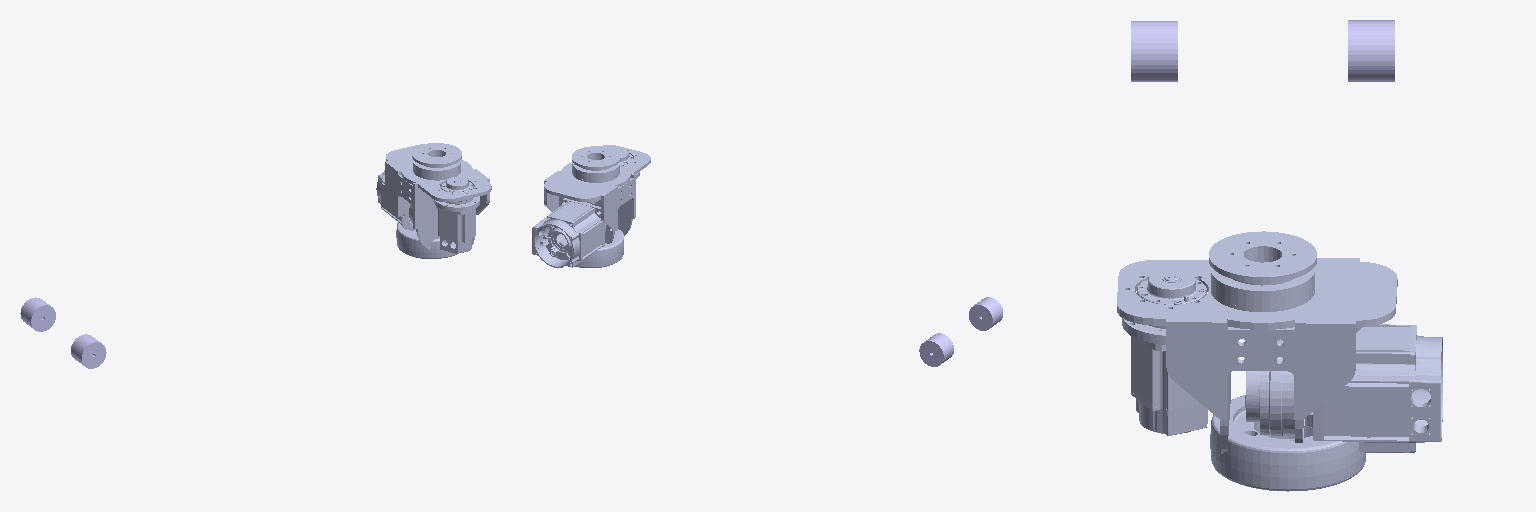
The robot description file, URDF, robot "gearfork_bot":
<?xml version="1.0" encoding="utf-8"?>
<!-- This URDF was automatically created by SolidWorks to URDF Exporter! Originally created by [author] ([email redacted]) 
     Commit Version: 1.6.0-4-g7f85cfe  Build Version: 1.6.7995.38578
     For more information, please see http://wiki.ros.org/sw_urdf_exporter -->
<robot
  name="gearfork_bot">
  <link
    name="base_footprint">
    <inertial>
      <origin
        xyz="-1.66533453693773E-16 -1.11022302462516E-16 0.0150000000000097"
        rpy="0 0 0" />
      <mass
        value="9.42477796076939E-05" />
      <inertia
        ixx="7.09214541547898E-09"
        ixy="1.07638717384255E-56"
        ixz="-2.73196242009685E-42"
        iyy="7.09214541547898E-09"
        iyz="2.54645439948029E-23"
        izz="4.71238898038469E-11" />
    </inertial>
    <visual>
      <origin
        xyz="0 0 0"
        rpy="0 0 0" />
      <geometry>
        <mesh
          filename="package://gearfork_bot/meshes/base_footprint.STL" />
      </geometry>
      <material
        name="">
        <color
          rgba="0.792156862745098 0.819607843137255 0.933333333333333 1" />
      </material>
    </visual>
    <collision>
      <origin
        xyz="0 0 0"
        rpy="0 0 0" />
      <geometry>
        <mesh
          filename="package://gearfork_bot/meshes/base_footprint.STL" />
      </geometry>
    </collision>
  </link>

<!-- BASE LINK -->

  <link
    name="base_link">
    <inertial>
      <origin
        xyz="0.332083153374593 -0.00331447649651206 0.192922352383313"
        rpy="0 0 0" />
      <mass
        value="6.82953904074599" />
      <inertia
        ixx="0.240406964793965"
        ixy="0.012996572440763"
        ixz="-0.196549425056795"
        iyy="0.857443539684563"
        iyz="-0.000466640574438609"
        izz="0.919203079251692" />
    </inertial>
    <visual>
      <origin
        xyz="0 0 0"
        rpy="0 0 0" />
      <geometry>
        <mesh
          filename="package://gearfork_bot/meshes/base_link.STL" />
      </geometry>
      <material
        name="">
        <color
          rgba="0.792156862745098 0.819607843137255 0.933333333333333 1" />
      </material>
    </visual>
    <collision>
      <origin
        xyz="0 0 0"
        rpy="0 0 0" />
      <geometry>
        <mesh
          filename="package://gearfork_bot/meshes/base_link.STL" />
      </geometry>
    </collision>
  </link>

  <joint
    name="base_joint"
    type="fixed">
    <origin
      xyz="0 0 0.035"
      rpy="0 0 0" />
    <parent
      link="base_footprint" />
    <child
      link="base_link" />
    <axis
      xyz="0 0 0" />
  </joint>

<!-- STEERING LINK -->

  <link
    name="motor_link">
    <inertial>
      <origin
        xyz="0.0305449765313153 -0.0516187176938839 -0.152664460739497"
        rpy="0 0 0" />
      <mass
        value="3.62949819437905" />
      <inertia
        ixx="0.020873193105549"
        ixy="0.00122762908427952"
        ixz="8.16486496202453E-06"
        iyy="0.0180104324187444"
        iyz="-0.00335879654898832"
        izz="0.0249870479241688" />
    </inertial>
    <visual>
      <origin
        xyz="0 0 0"
        rpy="0 0 0" />
      <geometry>
        <mesh
          filename="package://gearfork_bot/meshes/motor_link.STL" />
      </geometry>
      <material
        name="">
        <color
          rgba="0.792156862745098 0.819607843137255 0.933333333333333 1" />
      </material>
    </visual>
    <collision>
      <origin
        xyz="0 0 0"
        rpy="0 0 0" />
      <geometry>
        <mesh
          filename="package://gearfork_bot/meshes/motor_link.STL" />
      </geometry>
    </collision>
  </link>

  <joint
    name="motor_joint"
    type="revolute">
    <origin
      xyz="0.6 0 0.287"
      rpy="0 0 0" />
    <parent
      link="base_link" />
    <child
      link="motor_link" />
    <axis
      xyz="0 0 1" />
    <limit lower="-0.88" upper="0.88" effort="5" velocity="10.0"/>
  </joint>

<transmission name="trans1">
  <type>transmission_interface/SimpleTransmission</type>

  <joint name="motor_joint">
    <hardwareInterface>hardware_interface/PositionJointInterface</hardwareInterface>
  </joint>

  <actuator name="motor1">
    <mechanicalReduction>1.0</mechanicalReduction>
    <hardwareInterface>hardware_interface/EffortJointInterface</hardwareInterface>
  </actuator>

</transmission>

<gazebo>

  <plugin name="gazebo_ros_control" filename="libgazebo_ros_control.so">
    <robotNamespace>/gearfork_bot</robotNamespace>
  </plugin>
  
</gazebo>

      <!-- WHEEL LINK -->

  <link
    name="wheel_link">
    <inertial>
      <origin
        xyz="0.00017196626651117 -0.0274503580225008 2.22044604925031E-16"
        rpy="0 0 0" />
      <mass
        value="0.919701249338412" />
      <inertia
        ixx="0.00158997015044299"
        ixy="-5.62418653778609E-06"
        ixz="-6.63957229367091E-20"
        iyy="0.00248770363165098"
        iyz="1.16271390580822E-19"
        izz="0.00158993491700959" />
    </inertial>
    <visual>
      <origin
        xyz="0 0 0"
        rpy="0 0 0" />
      <geometry>
        <mesh
          filename="package://gearfork_bot/meshes/wheel_link.STL" />
      </geometry>
      <material
        name="">
        <color
          rgba="0.792156862745098 0.819607843137255 0.933333333333333 1" />
      </material>
    </visual>
    <collision>
      <origin
        xyz="0 0 0"
        rpy="0 0 0" />
      <geometry>
        <mesh
          filename="package://gearfork_bot/meshes/wheel_link.STL" />
      </geometry>
    </collision>
  </link>

  <joint
    name="wheel_joint"
    type="continuous">
    <origin
      xyz="0.004014 0.033026 -0.247"
      rpy="0 0 0" />
    <parent
      link="motor_link" />
    <child
      link="wheel_link" />
    <axis
      xyz="0.0062645 0.99998 0" />
  </joint>

      <!-- STEERING JOINT -->

  <link
    name="steering_link">
    <inertial>
      <origin
        xyz="2.22044604925031E-16 1.11022302462516E-16 0.0708534190503747"
        rpy="0 0 0" />
      <mass
        value="0.100938321168348" />
      <inertia
        ixx="0.000449053155189826"
        ixy="-1.89271586316295E-20"
        ixz="6.21936423063308E-20"
        iyy="0.000449053155189826"
        iyz="-1.60007749740726E-19"
        izz="1.73496012240567E-05" />
    </inertial>
    <visual>
      <origin
        xyz="0 0 0"
        rpy="0 0 0" />
      <geometry>
        <mesh
          filename="package://gearfork_bot/meshes/steering_link.STL" />
      </geometry>
      <material
        name="">
        <color
          rgba="0.792156862745098 0.819607843137255 0.933333333333333 1" />
      </material>
    </visual>
    <collision>
      <origin
        xyz="0 0 0"
        rpy="0 0 0" />
      <geometry>
        <mesh
          filename="package://gearfork_bot/meshes/steering_link.STL" />
      </geometry>
    </collision>
  </link>

  <joint
    name="steering_joint"
    type="continuous">
    <origin
      xyz="0.74937 0 0.232"
      rpy="0 0 0" />
    <parent
      link="base_link" />
    <child
      link="steering_link" />
    <axis
      xyz="0 0 1" />
  </joint>

      <!-- LASER LINK -->

  <link
    name="laser_link">
    <inertial>
      <origin
        xyz="4.44089209850063E-16 0 -0.0395000000000001"
        rpy="0 0 0" />
      <mass
        value="0.39709731141375" />
      <inertia
        ixx="0.000365362617943268"
        ixy="4.15988159834906E-51"
        ixz="-1.21245706409418E-36"
        iyy="0.000365362617943268"
        iyz="6.46109837352292E-20"
        izz="0.000317677849131001" />
    </inertial>
    <visual>
      <origin
        xyz="0 0 0"
        rpy="0 0 0" />
      <geometry>
        <mesh
          filename="package://gearfork_bot/meshes/laser_link.STL" />
      </geometry>
      <material
        name="">
        <color
          rgba="0.792156862745098 0.819607843137255 0.933333333333333 1" />
      </material>
    </visual>
    <collision>
      <origin
        xyz="0 0 0"
        rpy="0 0 0" />
      <geometry>
        <mesh
          filename="package://gearfork_bot/meshes/laser_link.STL" />
      </geometry>
    </collision>
  </link>

  <joint
    name="laser_joint"
    type="fixed">
    <origin
      xyz="0.93 -0.22 0.146"
      rpy="0 0 0" />
    <parent
      link="base_link" />
    <child
      link="laser_link" />
    <axis
      xyz="0 0 1" />
  </joint>

  <!-- <gazebo reference="laser_link">
    <material>Gazebo/FlatBlack</material>
    <sensor type="ray" name="lds_lfcd_sensor">
      <pose>0 0 0 0 0 0</pose>
      <visualize>true</visualize>
      <update_rate>5</update_rate>
      <ray>
        <scan>

          <horizontal>
            <samples>760</samples>
            <resolution>1</resolution>
            <min_angle>-2.2</min_angle>
            <max_angle>1.57</max_angle>
          </horizontal>

        </scan>
        <range>
          <min>0.120</min>
          <max>3.5</max>
          <resolution>0.015</resolution>
        </range>
        <noise>
          <type>gaussian</type>
          <mean>0.0</mean>
          <stddev>0.01</stddev>
        </noise>
      </ray>
      <plugin name="gazebo_ros_lds_lfcd_controller" filename="libgazebo_ros_laser.so">
        <topicName>/scan</topicName>
        <frameName>laser_link</frameName>
      </plugin>
    </sensor>
  </gazebo> -->

<!-- LEFT ROLLER LINK -->

  <link
    name="lroller_link">
    <inertial>
      <origin
        xyz="0 0.0450000000000002 0"
        rpy="0 0 0" />
      <mass
        value="0.312850268419984" />
      <inertia
        ixx="0.000307324665091248"
        ixy="8.7847735409044E-20"
        ixz="-2.35739885551304E-20"
        iyy="0.000204892709371718"
        iyz="2.69663364159728E-19"
        izz="0.000307324665091248" />
    </inertial>
    <visual>
      <origin
        xyz="0 0 0"
        rpy="0 0 0" />
      <geometry>
        <mesh
          filename="package://gearfork_bot/meshes/lroller_link.STL" />
      </geometry>
      <material
        name="">
        <color
          rgba="0.823529411764706 0.823529411764706 1 1" />
      </material>
    </visual>
    <collision>
      <origin
        xyz="0 0 0"
        rpy="0 0 0" />
      <geometry>
        <mesh
          filename="package://gearfork_bot/meshes/lroller_link.STL" />
      </geometry>
    </collision>
  </link>

  <joint
    name="lroller_joint"
    type="continuous">
    <origin
      xyz="-0.6 0.17 0.01"
      rpy="0 0 0" />
    <parent
      link="base_link" />
    <child
      link="lroller_link" />
    <axis
      xyz="0 1 0" />
    <dynamics
      friction="0.1" />
  </joint>

<!-- RIGHT ROLLER LINK -->

  <link
    name="rroller_link">
    <inertial>
      <origin
        xyz="1.66533453693773E-16 -0.0449999999999999 2.22044604925031E-16"
        rpy="0 0 0" />
      <mass
        value="0.312850268419983" />
      <inertia
        ixx="0.000307324665091247"
        ixy="3.35271630897544E-19"
        ixz="-8.68653616963297E-21"
        iyy="0.000204892709371718"
        iyz="4.43633506124443E-20"
        izz="0.000307324665091247" />
    </inertial>
    <visual>
      <origin
        xyz="0 0 0"
        rpy="0 0 0" />
      <geometry>
        <mesh
          filename="package://gearfork_bot/meshes/rroller_link.STL" />
      </geometry>
      <material
        name="">
        <color
          rgba="0.823529411764706 0.823529411764706 1 1" />
      </material>
    </visual>
    <collision>
      <origin
        xyz="0 0 0"
        rpy="0 0 0" />
      <geometry>
        <mesh
          filename="package://gearfork_bot/meshes/rroller_link.STL" />
      </geometry>
    </collision>
  </link>

  <joint
    name="rroller_joint"
    type="continuous">
    <origin
      xyz="-0.6 -0.17 0.01"
      rpy="0 0 0" />
    <parent
      link="base_link" />
    <child
      link="rroller_link" />
    <axis
      xyz="0 1 0" />
    <dynamics
      friction="0.1" />
  </joint>

<gazebo>
  <plugin name="differential_drive_controller" filename="libgazebo_ros_diff_drive.so">

    <updateRate>10</updateRate>

    <leftJoint>wheel_joint</leftJoint>

    <rightJoint>wheel_joint</rightJoint>

    <wheelSeparation>0.5380</wheelSeparation>

    <wheelDiameter>0.2410</wheelDiameter>

    <wheelAcceleration>1.0</wheelAcceleration>

    <wheelTorque>10</wheelTorque>

    <commandTopic>/gearfork_bot/cmd_vel</commandTopic>

    <odometryTopic>odom</odometryTopic>

    <odometryFrame>odom</odometryFrame>

    <robotBaseFrame>base_link</robotBaseFrame>

    <odometrySource>1</odometrySource>

    <publishWheelTF>false</publishWheelTF>

    <publishOdom>true</publishOdom>

    <publishWheelJointState>false</publishWheelJointState>

    <legacyMode>false</legacyMode>
  </plugin>
</gazebo>


</robot>

--- What the picture shows (computed from the rendered views, not written in the file) ---
Views: 3 orthographic renders of the robot side by side, from view 1: azimuth 30°, elevation 25°; view 2: azimuth 150°, elevation 25°; view 3: azimuth 270°, elevation 25°.
Robot: gearfork_bot — 8 links, 7 joints (1 revolute, 4 continuous, 2 fixed); root link base_footprint; default pose: all joints at 0.
Links seen in each view (by area): view 1: motor_link, wheel_link, rroller_link, lroller_link; view 2: motor_link, wheel_link, lroller_link, rroller_link; view 3: motor_link, wheel_link, lroller_link, rroller_link.
Boxes of the visible links, <box> form: motor_link: <box>376,143,491,253</box>; wheel_link: <box>396,218,456,258</box>; rroller_link: <box>71,334,106,368</box>; lroller_link: <box>20,297,55,331</box>; motor_link: <box>532,145,650,267</box>; wheel_link: <box>559,229,623,267</box>; lroller_link: <box>919,333,953,366</box>; rroller_link: <box>969,297,1002,330</box>; motor_link: <box>1117,231,1442,453</box>; wheel_link: <box>1210,395,1365,491</box>; lroller_link: <box>1348,20,1394,81</box>; rroller_link: <box>1131,21,1177,81</box>.
Size in the robot's own frame: 1.35 by 0.4209 by 0.311 metres.
4 mesh visuals loaded from 8 distinct referenced files (4 binary STL); not drawn: 4 (reference not matched to a file when rendering).